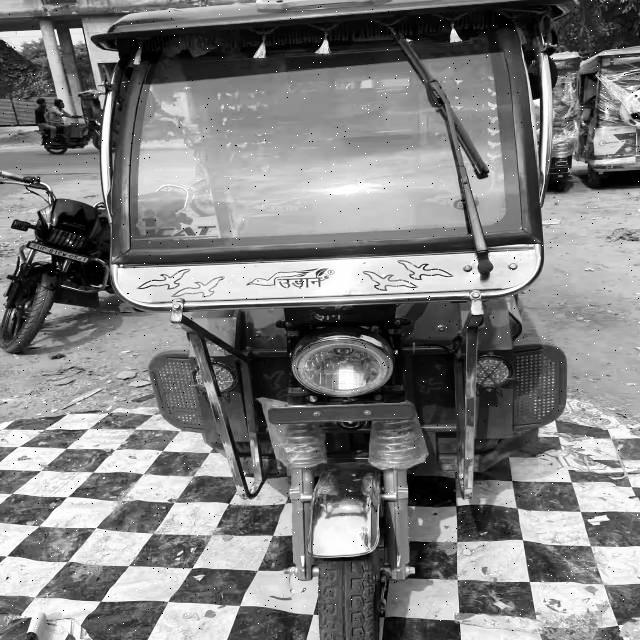Toto: (92, 0, 587, 640)
